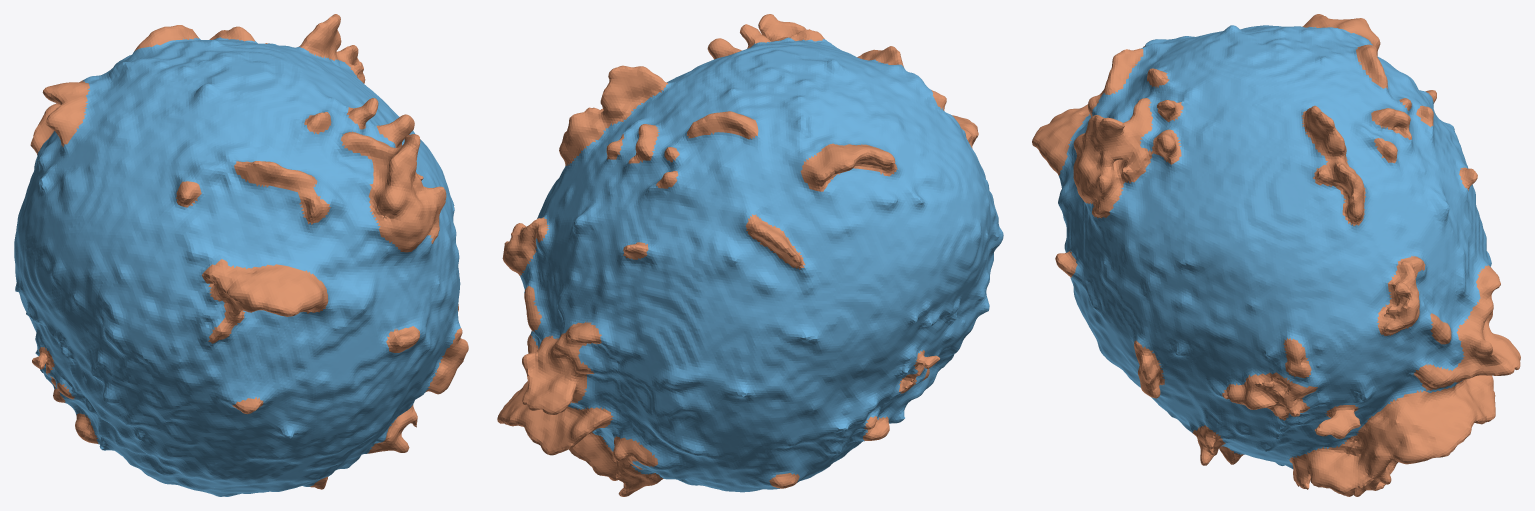
The picture shows the model from 3 angles, left to right: view 1: azimuth 30°, elevation 25°; view 2: azimuth 150°, elevation 25°; view 3: azimuth 270°, elevation 25°; orthographic projection. The views are drawn at different scales.
Size of the model in its own units: 127 by 126 by 139.
